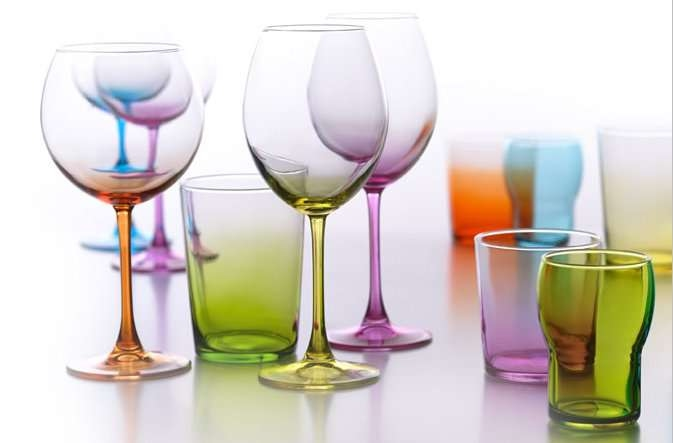Nonrec_Glass: (34, 29, 205, 396), (238, 21, 383, 396), (321, 8, 456, 363), (177, 160, 302, 365), (469, 219, 612, 388), (537, 245, 649, 433)
